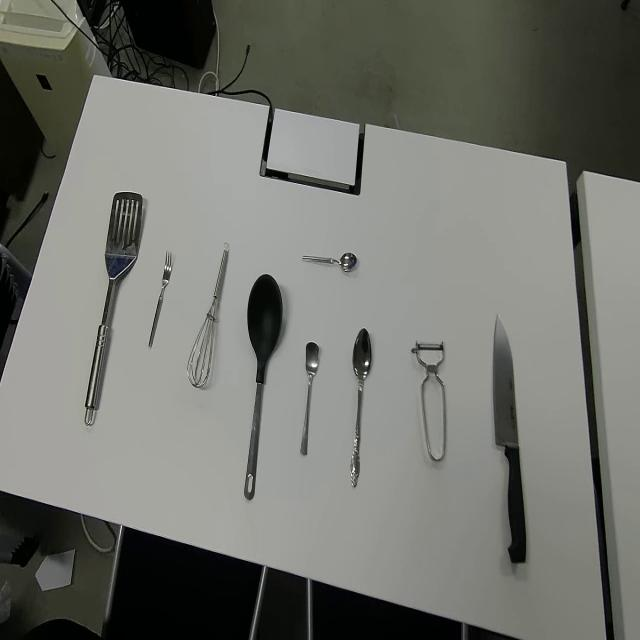Desert-Spoon: (349, 326, 373, 491)
Dinner-Fork: (146, 249, 172, 351)
Kitchen-Knife: (492, 312, 528, 566)
Peeler: (412, 339, 446, 463)
Serving-Spoon: (84, 190, 143, 427), (243, 272, 283, 504)
Tea-Spoon: (299, 340, 320, 457), (301, 249, 358, 272)
Whisk: (186, 240, 231, 390)
